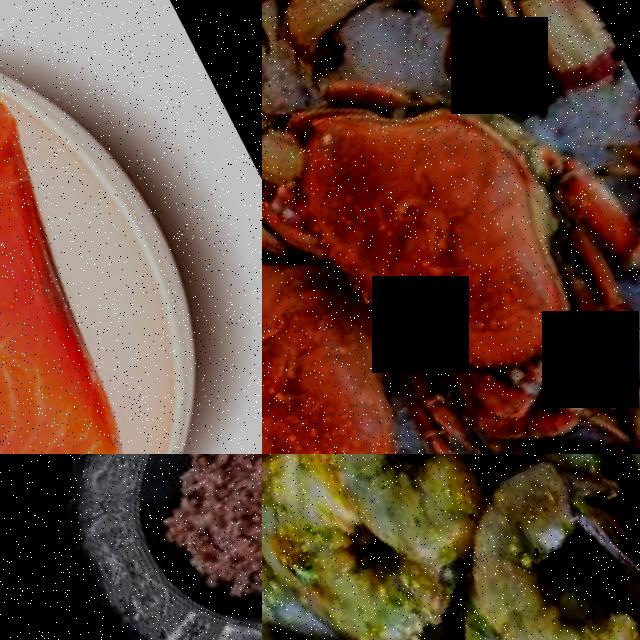crab: (262, 46, 608, 423), (262, 178, 428, 454), (446, 0, 624, 116), (262, 0, 413, 57)
salmon: (0, 59, 179, 454)
shrimp: (434, 460, 640, 640), (294, 454, 550, 586), (262, 454, 428, 640)
